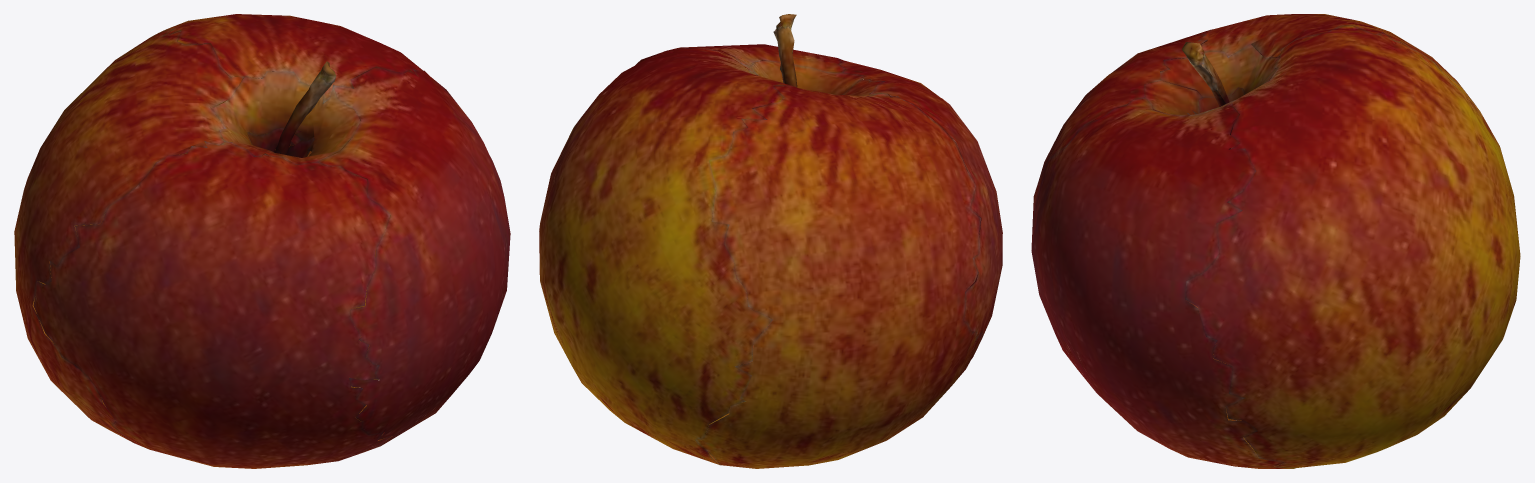
The model's file is food_apple_01.glb.
The picture shows the model from 3 angles, left to right: view 1: azimuth 30°, elevation 25°; view 2: azimuth 150°, elevation 25°; view 3: azimuth 270°, elevation 25°; orthographic projection. The views are drawn at different scales.
Visible parts, largest first — view 1: food_apple_01; view 2: food_apple_01; view 3: food_apple_01.
Boxes of the visible parts, bbox=[...] form: food_apple_01: bbox=[14, 14, 510, 468]; food_apple_01: bbox=[539, 14, 1002, 468]; food_apple_01: bbox=[1031, 14, 1520, 468].
Bounding box in the file's own units: 0.0975 × 0.0854 × 0.096.
1 material, 1 textured.
